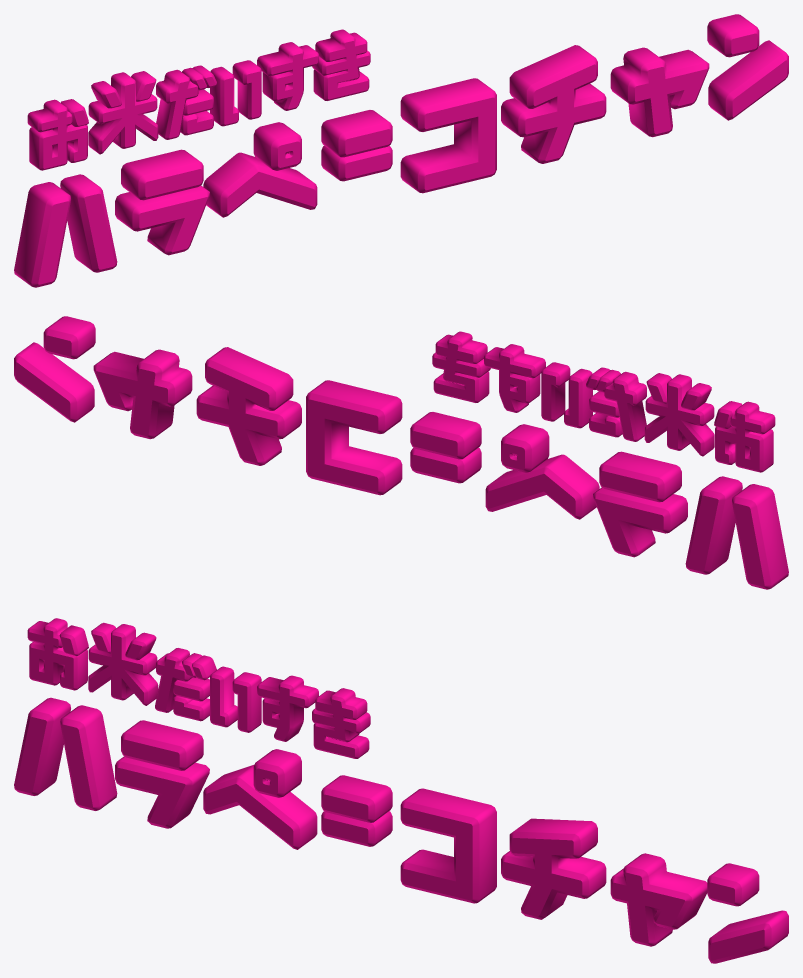
File: harapeKotyan.obj
The picture shows the model from 3 angles, top to bottom: view 1: azimuth 30°, elevation 25°; view 2: azimuth 150°, elevation 25°; view 3: azimuth 330°, elevation 25°; orthographic projection.
Visible parts, largest first — view 1: テキスト, テキスト.001; view 2: テキスト, テキスト.001; view 3: テキスト, テキスト.001.
Boxes of the visible parts, box(x1,y1,x2,y2) form: テキスト: box(14, 14, 788, 287); テキスト.001: box(27, 29, 370, 170); テキスト: box(14, 316, 788, 589); テキスト.001: box(432, 331, 775, 472); テキスト: box(14, 697, 788, 963); テキスト.001: box(27, 618, 370, 758).
Size of the model in its own units: 17.47 by 4.03 by 0.89.
Materials: 2 (2 with a texture image).
